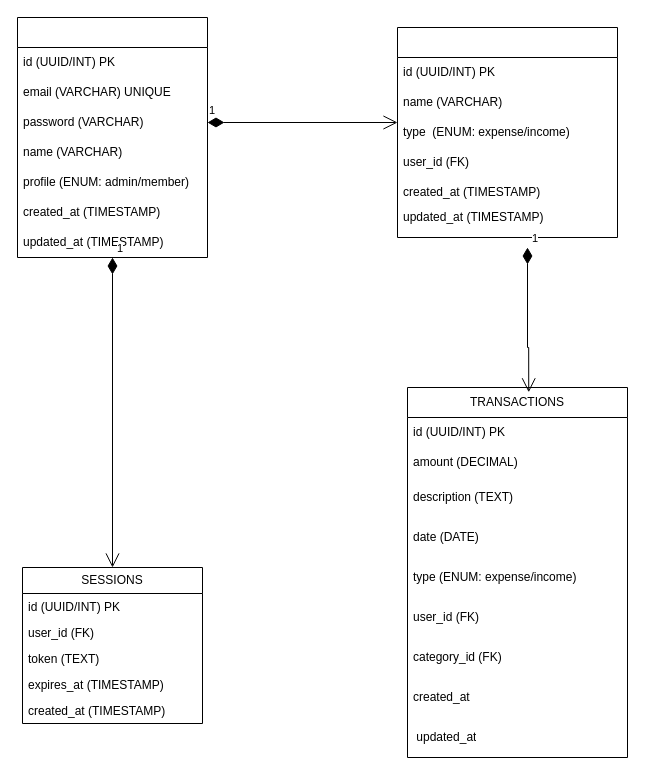
Some shapes in this 645 by 775 pixel diagram are drawn without their labels. The box of each missing label's shape, as (x1, y1, x2, y2) in pixels:
CATEGORIES: (396, 26, 618, 238)
USER: (16, 16, 208, 258)
